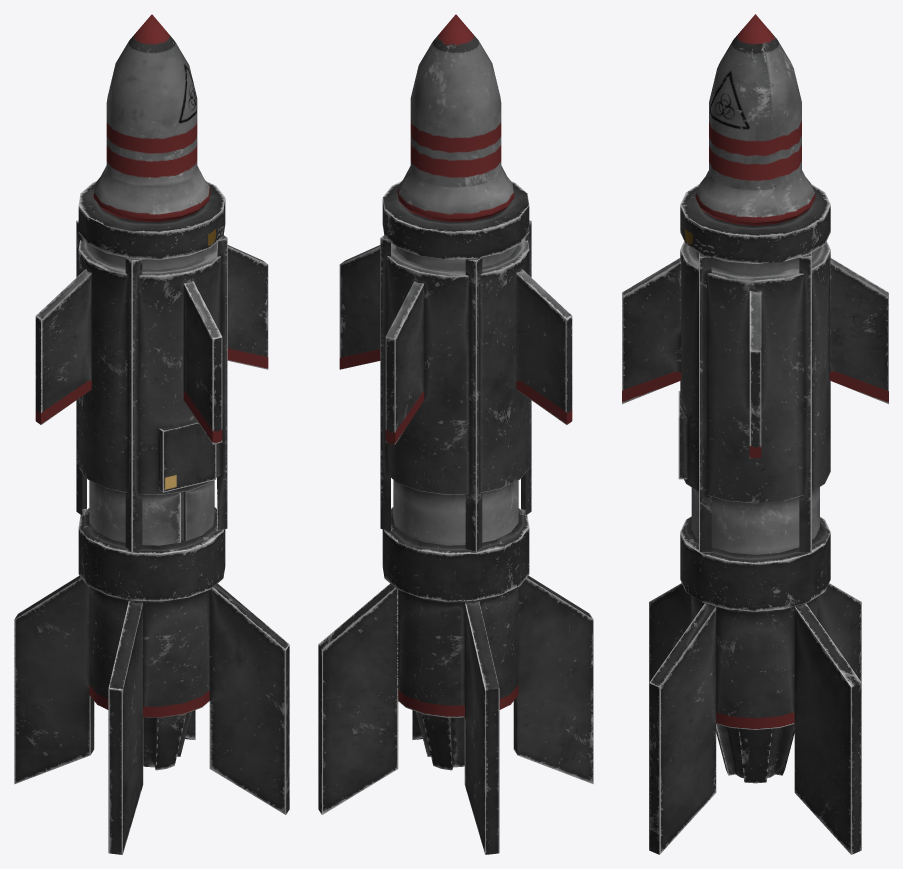
File: Missile.glb
3 renders of one model, left to right at view 1: azimuth 30°, elevation 25°; view 2: azimuth 150°, elevation 25°; view 3: azimuth 270°, elevation 25°, orthographic.
Parts seen in each view (by area): view 1: Misil; view 2: Misil; view 3: Misil.
Boxes of the visible parts, left/top/right/bottom form: Misil: left=14, top=14, right=289, bottom=854; Misil: left=318, top=14, right=593, bottom=854; Misil: left=622, top=14, right=888, bottom=854.
Size of the model in its own units: 4.26 by 14 by 4.26.
1 material, 1 textured.
